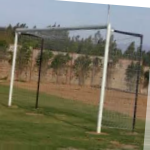goals: (6, 23, 143, 133)
